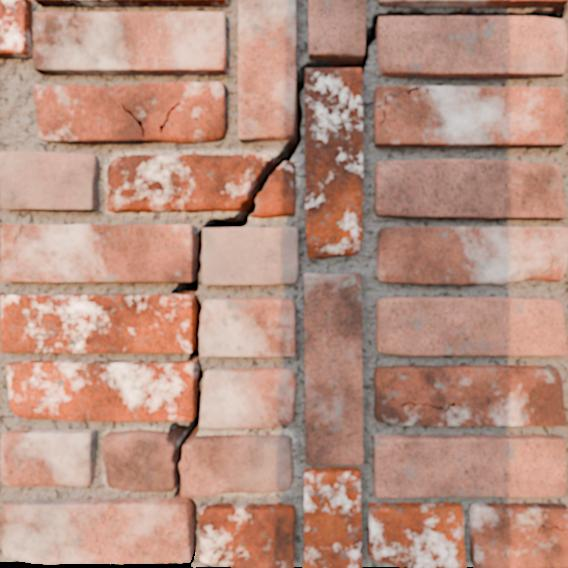brick: (374, 435, 565, 497), (1, 499, 191, 561), (34, 12, 226, 73), (374, 365, 565, 425), (378, 17, 567, 77), (34, 83, 226, 142), (374, 87, 566, 146), (6, 361, 195, 420), (304, 274, 362, 464), (1, 295, 194, 352), (375, 160, 566, 217), (377, 297, 567, 354), (1, 225, 194, 281), (305, 69, 362, 257), (377, 227, 567, 283), (239, 0, 295, 140), (368, 503, 466, 567), (470, 503, 567, 567), (199, 504, 294, 567), (303, 468, 362, 567), (0, 152, 98, 209), (200, 369, 295, 427), (200, 298, 294, 356), (203, 228, 298, 284), (1, 429, 94, 485), (309, 0, 365, 59), (0, 0, 31, 56), (378, 0, 567, 6), (35, 0, 226, 5), (375, 87, 410, 104)
broken_brick: (105, 152, 274, 212), (180, 434, 294, 498), (102, 429, 173, 493), (250, 161, 296, 218)
crack: (0, 2, 567, 565), (374, 85, 430, 126), (12, 224, 23, 261), (537, 524, 567, 531)
